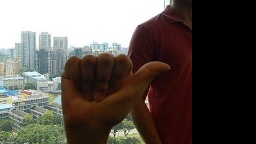Pugno: (55, 48, 172, 131)
